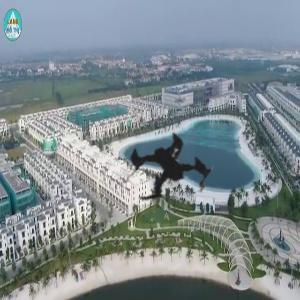drone: (56, 59, 285, 288)
